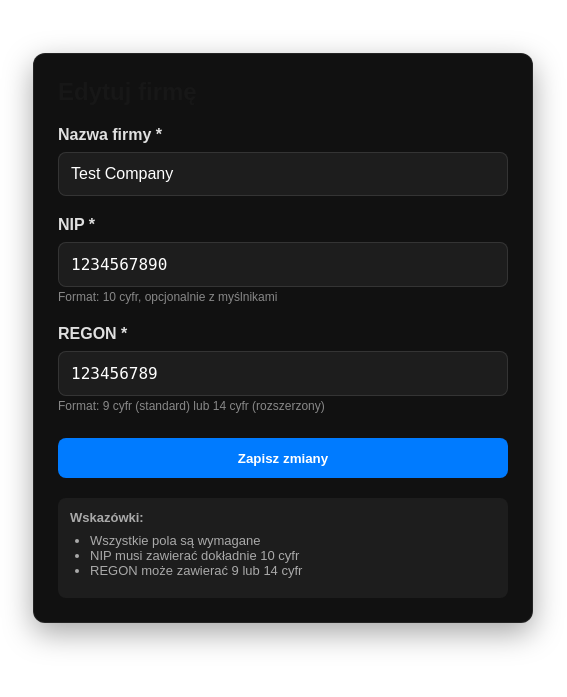
Test: EditCompanyForm › Walidacja formularza › powinien pokazać błąd gdy nazwa firmy jest pusta
Clear the field labelled "Nazwa firmy *": (283,174) [58,152,508,196]
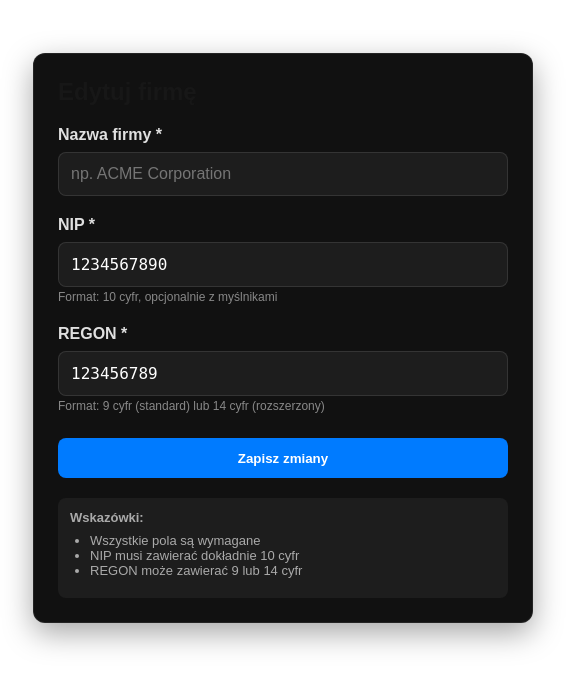
Click the button "Zapisz zmiany": (283,458) [58,438,508,478]
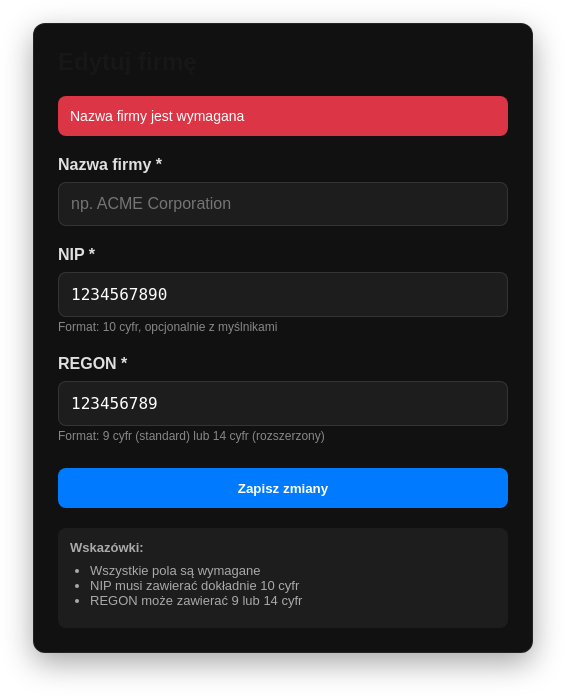
Expected: the text "Nazwa firmy jest wymagana" is shown, [58,96,508,136]
